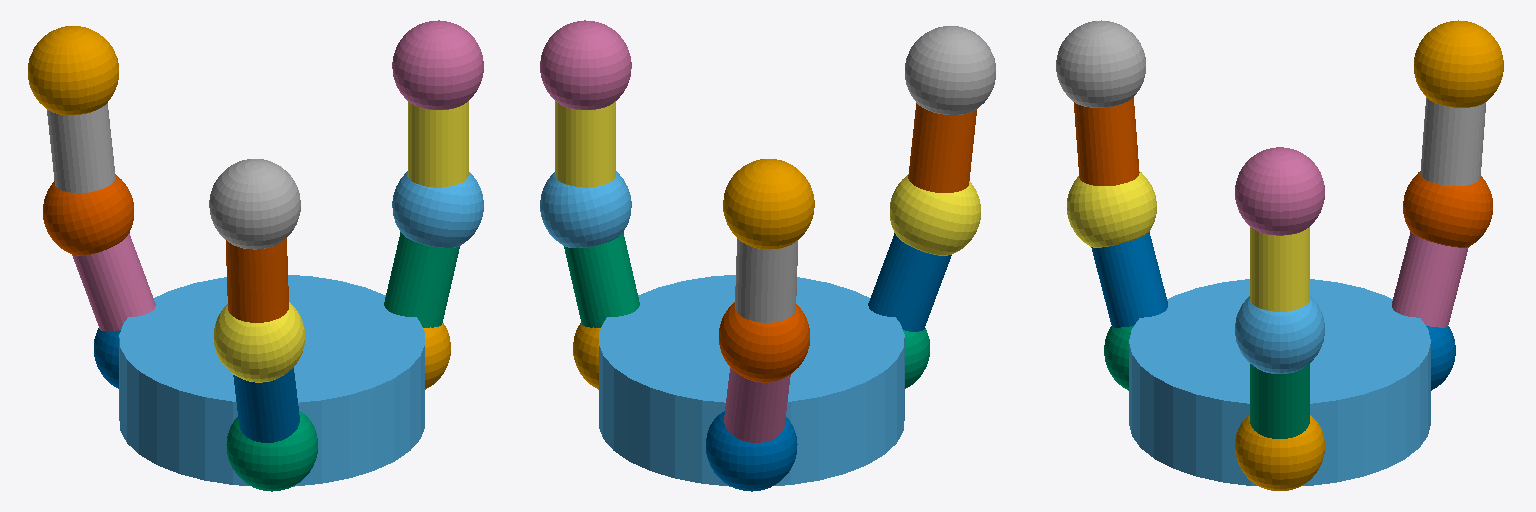
The robot description file, URDF, robot "gripper_3f_2j":
<?xml version="1.0"?>
<robot name="gripper_3f_2j">
  <link name="base">
    <inertial>
      <origin xyz="0.0 0.0 0.0" rpy="0.0 0.0 0.0"/>
      <mass value="0.01"/>
      <inertia ixx="0.0" ixy="0.0" ixz="0.0" iyy="0.0" iyz="0.0" izz="0.0"/>
    </inertial>
    <visual>
      <geometry>
        <sphere radius="0.0015"/>
      </geometry>
      <origin xyz="0.0 0.0 0.0" rpy="0.0 -0.0 0.0"/>
    </visual>
  </link>

  <link name="palm">
    <inertial>
      <origin xyz="0.0 0.0 0.0" rpy="0.0 -0.0 0.0"/>
      <mass value="1.0"/>
      <inertia ixx="1.0" ixy="0.0" ixz="0.0" iyy="1.0" iyz="0.0" izz="1.0"/>
    </inertial>
    <visual>
      <geometry>
        <cylinder radius="0.05" length="0.03"/>
      </geometry>
      <material name="blue"/>
      <origin xyz="0.0 0.0 0.0" rpy="0.0 -0.0 0.0"/>
    </visual>
    <collision>
      <geometry>
        <cylinder radius="0.05" length="0.03"/>
      </geometry>
      <origin xyz="0.0 0.0 0.0" rpy="0.0 0.0 0.0"/>
    </collision>
  </link>

    <joint name="base" type="prismatic">
        <parent link="base"/>
        <child link="palm"/>
        <limit effort="1000.0" lower="-0.3" upper=".1" velocity="0.5"/>
        <origin rpy="0 0 0" xyz="0. 0 0."/>
        <axis xyz='0 0 1'/>
    </joint>

  <link name="f11">
    <inertial>
      <origin xyz="0.0 0.0 0.0" rpy="0.0 -0.0 0.0"/>
      <mass value="1.0"/>
      <inertia ixx="1.0" ixy="0.0" ixz="0.0" iyy="1.0" iyz="0.0" izz="1.0"/>
    </inertial>
    <visual>
      <geometry>
        <cylinder radius="0.01" length="0.05"/>
      </geometry>
      <material name="green"/>
      <origin xyz="0.0 0.0 0.025" rpy="0.0 -0.0 0.0"/>
    </visual>
    <collision>
      <geometry>
        <cylinder radius="0.01" length="0.05"/>
      </geometry>
      <origin xyz="0.0 0.0 0.025" rpy="0.0 0.0 0.0"/>
    </collision>
  </link>
  <link name="f12">
    <inertial>
      <origin xyz="0.0 0.0 0.0" rpy="0.0 -0.0 0.0"/>
      <mass value="1.0"/>
      <inertia ixx="1.0" ixy="0.0" ixz="0.0" iyy="1.0" iyz="0.0" izz="1.0"/>
    </inertial>
    <visual>
      <geometry>
        <cylinder radius="0.01" length="0.05"/>
      </geometry>
      <material name="green"/>
      <origin xyz="0.0 0.0 0.025" rpy="0.0 -0.0 0.0"/>
    </visual>
    <collision>
      <geometry>
        <cylinder radius="0.01" length="0.05"/>
      </geometry>
      <origin xyz="0.0 0.0 0.025" rpy="0.0 0.0 0.0"/>
    </collision>
  </link>
  <link name="f21">
    <inertial>
      <origin xyz="0.0 0.0 0.0" rpy="0.0 -0.0 0.0"/>
      <mass value="1.0"/>
      <inertia ixx="1.0" ixy="0.0" ixz="0.0" iyy="1.0" iyz="0.0" izz="1.0"/>
    </inertial>
    <visual>
      <geometry>
        <cylinder radius="0.01" length="0.05"/>
      </geometry>
      <material name="green"/>
      <origin xyz="0.0 0.0 0.025" rpy="0.0 -0.0 0.0"/>
    </visual>
    <collision>
      <geometry>
        <cylinder radius="0.01" length="0.05"/>
      </geometry>
      <origin xyz="0.0 0.0 0.025" rpy="0.0 0.0 0.0"/>
    </collision>
  </link>
  <link name="f22">
    <inertial>
      <origin xyz="0.0 0.0 0.0" rpy="0.0 -0.0 0.0"/>
      <mass value="1.0"/>
      <inertia ixx="1.0" ixy="0.0" ixz="0.0" iyy="1.0" iyz="0.0" izz="1.0"/>
    </inertial>
    <visual>
      <geometry>
        <cylinder radius="0.01" length="0.05"/>
      </geometry>
      <material name="green"/>
      <origin xyz="0.0 0.0 0.025" rpy="0.0 -0.0 0.0"/>
    </visual>
    <collision>
      <geometry>
        <cylinder radius="0.01" length="0.05"/>
      </geometry>
      <origin xyz="0.0 0.0 0.025" rpy="0.0 0.0 0.0"/>
    </collision>
  </link>
  <link name="f31">
    <inertial>
      <origin xyz="0.0 0.0 0.0" rpy="0.0 -0.0 0.0"/>
      <mass value="1.0"/>
      <inertia ixx="1.0" ixy="0.0" ixz="0.0" iyy="1.0" iyz="0.0" izz="1.0"/>
    </inertial>
    <visual>
      <geometry>
        <cylinder radius="0.01" length="0.05"/>
      </geometry>
      <material name="green"/>
      <origin xyz="0.0 0.0 0.025" rpy="0.0 -0.0 0.0"/>
    </visual>
    <collision>
      <geometry>
        <cylinder radius="0.01" length="0.05"/>
      </geometry>
      <origin xyz="0.0 0.0 0.025" rpy="0.0 0.0 0.0"/>
    </collision>
  </link>
  <link name="f32">
    <inertial>
      <origin xyz="0.0 0.0 0.0" rpy="0.0 -0.0 0.0"/>
      <mass value="1.0"/>
      <inertia ixx="1.0" ixy="0.0" ixz="0.0" iyy="1.0" iyz="0.0" izz="1.0"/>
    </inertial>
    <visual>
      <geometry>
        <cylinder radius="0.01" length="0.05"/>
      </geometry>
      <material name="green"/>
      <origin xyz="0.0 0.0 0.025" rpy="0.0 -0.0 0.0"/>
    </visual>
    <collision>
      <geometry>
        <cylinder radius="0.01" length="0.05"/>
      </geometry>
      <origin xyz="0.0 0.0 0.025" rpy="0.0 0.0 0.0"/>
    </collision>
  </link>
  <link name="f11_base">
    <inertial>
      <origin xyz="0.0 0.0 0.0" rpy="0.0 0.0 0.0"/>
      <mass value="0.01"/>
      <inertia ixx="0.0" ixy="0.0" ixz="0.0" iyy="0.0" iyz="0.0" izz="0.0"/>
    </inertial>
    <visual>
      <geometry>
        <sphere radius="0.015"/>
      </geometry>
      <origin xyz="0.0 0.0 0.0" rpy="0.0 -0.0 0.0"/>
    </visual>
  </link>
  <link name="f12_slot">
    <inertial>
      <origin xyz="0.0 0.0 0.0" rpy="0.0 0.0 0.0"/>
      <mass value="0.01"/>
      <inertia ixx="0.0" ixy="0.0" ixz="0.0" iyy="0.0" iyz="0.0" izz="0.0"/>
    </inertial>
    <visual>
      <geometry>
        <sphere radius="0.015"/>
      </geometry>
      <origin xyz="0.0 0.0 0.0" rpy="0.0 -0.0 0.0"/>
    </visual>
  </link>
  <link name="f21_base">
    <inertial>
      <origin xyz="0.0 0.0 0.0" rpy="0.0 0.0 0.0"/>
      <mass value="0.01"/>
      <inertia ixx="0.0" ixy="0.0" ixz="0.0" iyy="0.0" iyz="0.0" izz="0.0"/>
    </inertial>
    <visual>
      <geometry>
        <sphere radius="0.015"/>
      </geometry>
      <origin xyz="0.0 0.0 0.0" rpy="0.0 -0.0 0.0"/>
    </visual>
  </link>
  <link name="f22_slot">
    <inertial>
      <origin xyz="0.0 0.0 0.0" rpy="0.0 0.0 0.0"/>
      <mass value="0.01"/>
      <inertia ixx="0.0" ixy="0.0" ixz="0.0" iyy="0.0" iyz="0.0" izz="0.0"/>
    </inertial>
    <visual>
      <geometry>
        <sphere radius="0.015"/>
      </geometry>
      <origin xyz="0.0 0.0 0.0" rpy="0.0 -0.0 0.0"/>
    </visual>
  </link>
  <link name="f31_base">
    <inertial>
      <origin xyz="0.0 0.0 0.0" rpy="0.0 0.0 0.0"/>
      <mass value="0.0"/>
      <inertia ixx="0.0" ixy="0.0" ixz="0.0" iyy="0.0" iyz="0.0" izz="0.0"/>
    </inertial>
    <visual>
      <geometry>
        <sphere radius="0.015"/>
      </geometry>
      <origin xyz="0.0 0.0 0.0" rpy="0.0 -0.0 0.0"/>
    </visual>
  </link>
  <link name="f32_slot">
    <inertial>
      <origin xyz="0.0 0.0 0.0" rpy="0.0 0.0 0.0"/>
      <mass value="0.0"/>
      <inertia ixx="0.0" ixy="0.0" ixz="0.0" iyy="0.0" iyz="0.0" izz="0.0"/>
    </inertial>
    <visual>
      <geometry>
        <sphere radius="0.015"/>
      </geometry>
      <origin xyz="0.0 0.0 0.0" rpy="0.0 -0.0 0.0"/>
    </visual>
  </link>
  <link name="f13_slot">
    <inertial>
      <origin xyz="0.0 0.0 0.0" rpy="0.0 0.0 0.0"/>
      <mass value="0.0"/>
      <inertia ixx="0.0" ixy="0.0" ixz="0.0" iyy="0.0" iyz="0.0" izz="0.0"/>
    </inertial>
    <visual>
      <geometry>
        <sphere radius="0.015"/>
      </geometry>
      <origin xyz="0.0 0.0 0.0" rpy="0.0 -0.0 0.0"/>
    </visual>
  </link>
  <link name="f23_slot">
    <inertial>
      <origin xyz="0.0 0.0 0.0" rpy="0.0 0.0 0.0"/>
      <mass value="0.0"/>
      <inertia ixx="0.0" ixy="0.0" ixz="0.0" iyy="0.0" iyz="0.0" izz="0.0"/>
    </inertial>
    <visual>
      <geometry>
        <sphere radius="0.015"/>
      </geometry>
      <origin xyz="0.0 0.0 0.0" rpy="0.0 -0.0 0.0"/>
    </visual>
  </link>
  <link name="f33_slot">
    <inertial>
      <origin xyz="0.0 0.0 0.0" rpy="0.0 0.0 0.0"/>
      <mass value="0.0"/>
      <inertia ixx="0.0" ixy="0.0" ixz="0.0" iyy="0.0" iyz="0.0" izz="0.0"/>
    </inertial>
    <visual>
      <geometry>
        <sphere radius="0.015"/>
      </geometry>
      <origin xyz="0.0 0.0 0.0" rpy="0.0 -0.0 0.0"/>
    </visual>
  </link>

  <joint name="f11_joint" type="revolute">
    <dynamics damping="100.0" friction="1.0"/>
    <limit effort="30.0" velocity="2.0" lower="-0.4" upper="0.25"/>
    <parent link="f11_base"/>
    <child link="f11"/>
    <axis xyz="0 1 0"/>
    <origin xyz="0.0 0.0 0.0" rpy="0.0 0.25 0.0"/>
  </joint>
  <joint name="f12_joint" type="revolute">
    <dynamics damping="100.0" friction="1.0"/>
    <limit effort="30.0" velocity="2.0" lower="-0.65" upper="0.0"/>
    <mimic joint="f11_joint" multiplier="2.0" offset="-0.25"/>
    <parent link="f12_slot"/>
    <child link="f12"/>
    <axis xyz="0 1 0"/>
    <origin xyz="0.0 0.0 0.0" rpy="0.0 -0.0 0.0"/>
  </joint>
  <joint name="f21_joint" type="revolute">
    <dynamics damping="100.0" friction="1.0"/>
    <limit effort="30.0" velocity="2.0" lower="-0.4" upper="0.25"/>
    <parent link="f21_base"/>
    <child link="f21"/>
    <axis xyz="0.7071067811865475 -0.7071067811865475  0"/>
    <origin xyz="0.0 0.0 0.0" rpy="0.25 -0.25 0.0"/>
  </joint>
  <joint name="f22_joint" type="revolute">
    <dynamics damping="100.0" friction="1.0"/>
    <limit effort="30.0" velocity="2.0" lower="-0.65" upper="0.0"/>
    <mimic joint="f21_joint" multiplier="1.0" offset="-0.25"/>
    <parent link="f22_slot"/>
    <child link="f22"/>
    <axis xyz=" 0.7071067811865475 -0.7071067811865475  0"/>
    <origin xyz="0.0 0.0 0.0" rpy="0.0 -0.0 0.0"/>
  </joint>
  <joint name="f31_joint" type="revolute">
    <dynamics damping="100.0" friction="1.0"/>
    <limit effort="30.0" velocity="2.0" lower="-0.4" upper="0.25"/>
    <parent link="f31_base"/>
    <child link="f31"/>
    <axis xyz="-0.7071067811865475 -0.7071067811865475  0"/>
    <origin xyz="0.0 0.0 0.0" rpy="-0.25 -0.25 0.0"/>
  </joint>
  <joint name="f32_joint" type="revolute">
    <dynamics damping="100.0" friction="1.0"/>
    <limit effort="30.0" velocity="2.0" lower="-0.65" upper="0."/>
    <mimic joint="f31_joint" multiplier="1.0" offset="-0.25"/>
    <parent link="f32_slot"/>
    <child link="f32"/>
    <axis xyz="-0.7071067811865475 -0.7071067811865475  0"/>
    <origin xyz="0.0 0.0 0.0" rpy="0.0 0.0 0.0"/>
  </joint>
  <joint name="f11_base_joint" type="fixed">
    <parent link="palm"/>
    <child link="f11_base"/>
    <axis xyz="1 0 0"/>
    <origin xyz="0.05 0.0 0.0" rpy="0.0 0.0 0.0"/>
  </joint>
  <joint name="f12_slot_joint" type="fixed">
    <parent link="f11"/>
    <child link="f12_slot"/>
    <axis xyz="1 0 0"/>
    <origin xyz="0.0 0.0 0.05" rpy="0.0 0.0 0.0"/>
  </joint>
  <joint name="f21_base_joint" type="fixed">
    <parent link="palm"/>
    <child link="f21_base"/>
    <axis xyz="1 0 0"/>
    <origin xyz="-0.025 -0.043301270189222 0.0" rpy="0.0 0.0 0.0"/>
  </joint>
  <joint name="f22_slot_joint" type="fixed">
    <parent link="f21"/>
    <child link="f22_slot"/>
    <axis xyz="1 0 0"/>
    <origin xyz="0.0 0.0 0.05" rpy="0.0 0.0 0.0"/>
  </joint>
  <joint name="f31_base_joint" type="fixed">
    <parent link="palm"/>
    <child link="f31_base"/>
    <axis xyz="1 0 0"/>
    <origin xyz="-0.025 0.043301270189222 0.0" rpy="0.0 0.0 0.0"/>
  </joint>
  <joint name="f32_slot_joint" type="fixed">
    <parent link="f31"/>
    <child link="f32_slot"/>
    <axis xyz="1 0 0"/>
    <origin xyz="0.0 0.0 0.05" rpy="0.0 0.0 0.0"/>
  </joint>
  <joint name="f13_slot_joint" type="fixed">
    <parent link="f12"/>
    <child link="f13_slot"/>
    <axis xyz="1 0. 0."/>
    <origin xyz="0.0 0.0 0.05" rpy="0.0 0.0 0.0"/>
  </joint>
  <joint name="f23_slot_joint" type="fixed">
    <parent link="f22"/>
    <child link="f23_slot"/>
    <axis xyz="1. 0. 0."/>
    <origin xyz="0.0 0.0 0.05" rpy="0.0 0.0 0.0"/>
  </joint>
  <joint name="f33_slot_joint" type="fixed">
    <parent link="f32"/>
    <child link="f33_slot"/>
    <axis xyz="1. 0. 0."/>
    <origin xyz="0.0 0.0 0.05" rpy="0.0 0.0 0.0"/>
  </joint>
  <material name="LightGrey">
    <color rgba="0.7 0.7 0.7 1. "/>
  </material>

</robot>

--- What the picture shows (computed from the rendered views, not written in the file) ---
3 views of the same robot in one strip: view 1: azimuth 30°, elevation 25°; view 2: azimuth 150°, elevation 25°; view 3: azimuth 270°, elevation 25° (orthographic).
Model gripper_3f_2j with 17 links and 16 joints (6 revolute, 1 prismatic, 9 fixed), rooted at base, posed every joint at zero.
Links seen in each view (by area): view 1: palm, f23_slot, f13_slot, f33_slot, f32_slot, f12_slot, f22_slot, f32, f11, f31, f12, f22 (+4 smaller); view 2: palm, f33_slot, f13_slot, f23_slot, f22_slot, f12_slot, f32_slot, f22, f11, f21, f12, f32 (+4 smaller); view 3: palm, f13_slot, f23_slot, f33_slot, f12_slot, f22_slot, f32_slot, f21, f31, f22, f32, f12 (+4 smaller).
Link boxes in pixels (box(x1,y1,x2,y2)): palm: box(119, 275, 424, 486); f23_slot: box(209, 159, 300, 249); f13_slot: box(392, 20, 483, 109); f33_slot: box(28, 26, 118, 114); f32_slot: box(43, 174, 133, 255); f12_slot: box(392, 171, 483, 247); f22_slot: box(214, 302, 304, 382); f32: box(47, 103, 115, 192); f11: box(384, 232, 459, 327); f31: box(72, 233, 155, 331); f12: box(408, 101, 468, 187); f22: box(226, 238, 288, 322); palm: box(599, 275, 904, 486); f33_slot: box(723, 159, 814, 249); f13_slot: box(540, 20, 631, 109); f23_slot: box(905, 26, 995, 114); f22_slot: box(890, 174, 980, 255); f12_slot: box(540, 171, 631, 247); f32_slot: box(719, 302, 809, 382); f22: box(908, 103, 976, 192); f11: box(564, 232, 639, 327); f21: box(868, 233, 951, 331); f12: box(555, 101, 615, 187); f32: box(735, 238, 797, 322); palm: box(1129, 279, 1430, 485); f13_slot: box(1235, 147, 1324, 235); f23_slot: box(1056, 20, 1145, 107); f33_slot: box(1414, 20, 1503, 107); f12_slot: box(1235, 296, 1324, 373); f22_slot: box(1067, 171, 1156, 247); f32_slot: box(1403, 171, 1492, 247); f21: box(1091, 232, 1167, 327); f31: box(1392, 232, 1468, 327); f22: box(1074, 98, 1139, 185); f32: box(1420, 98, 1485, 185); f12: box(1250, 227, 1309, 311).
Bounding box of the posed robot: 0.133 × 0.1483 × 0.1284 m (x, y, z).
Geometry: primitives only (box / cylinder / sphere), no mesh files.